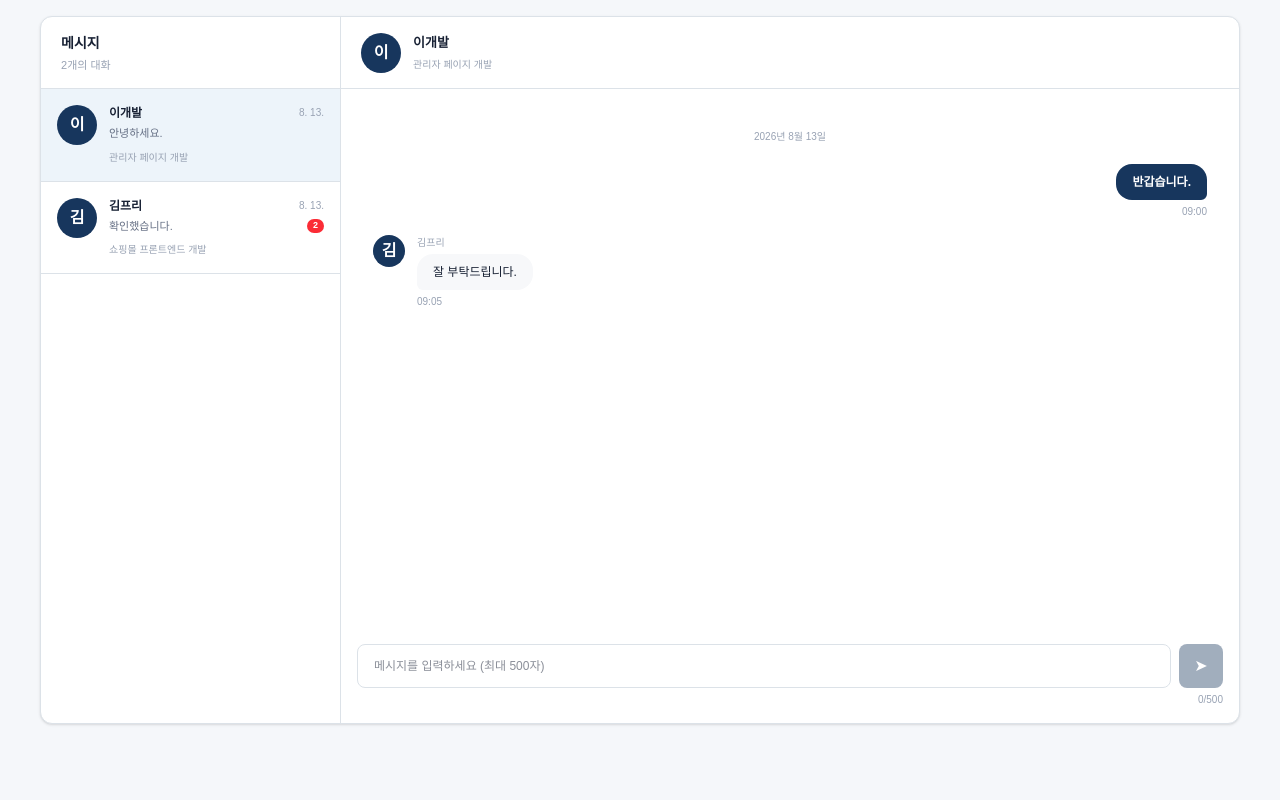
Test: Chat › 채팅방 버튼을 선택하면 해당 방의 상세와 메시지를 조회한다
Check: the heading "이개발" is shown, box top-left (413, 35), bottom-right (449, 50)
Click the button "김 김프리 8. 13. 확인했습니다. 2 쇼핑몰 프론트엔드 개발".
click(77, 218)  # box top-left (41, 182), bottom-right (340, 274)
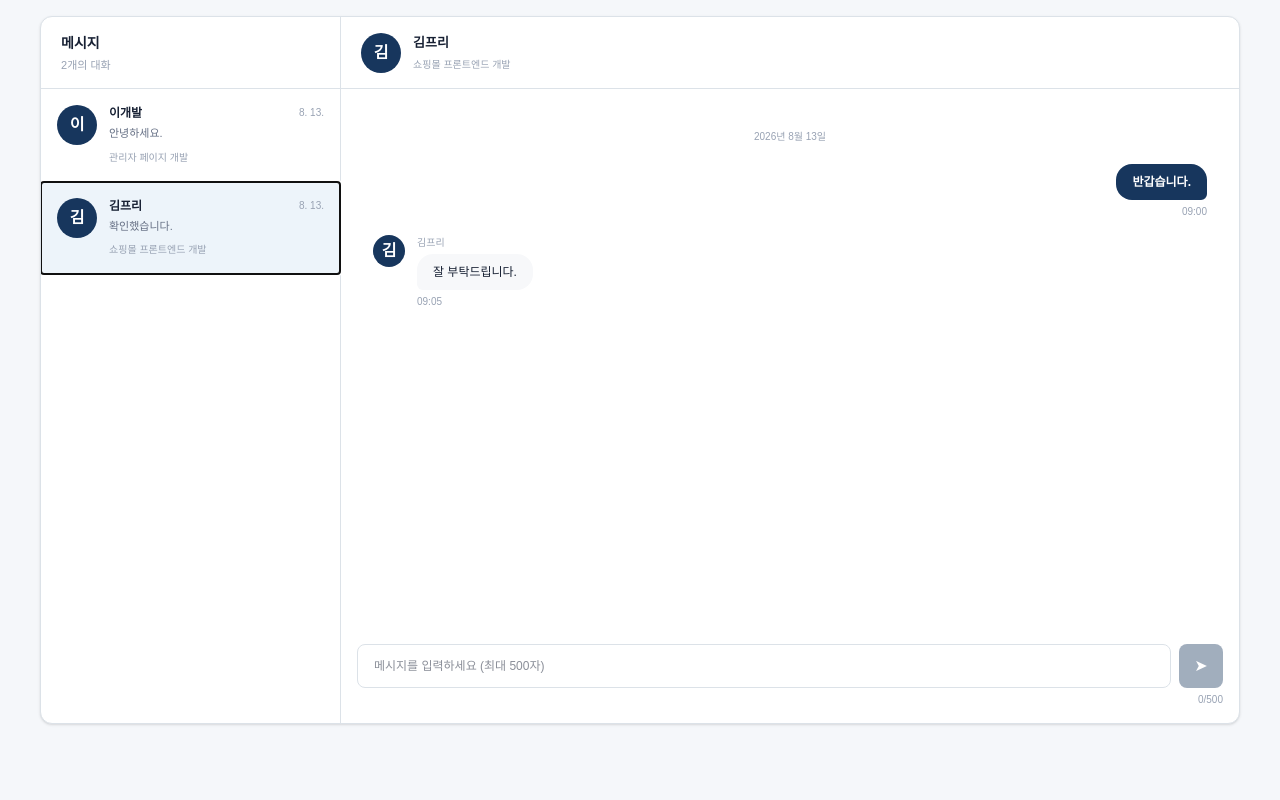
Check: the heading "김프리" is shown, box top-left (413, 35), bottom-right (449, 50)
